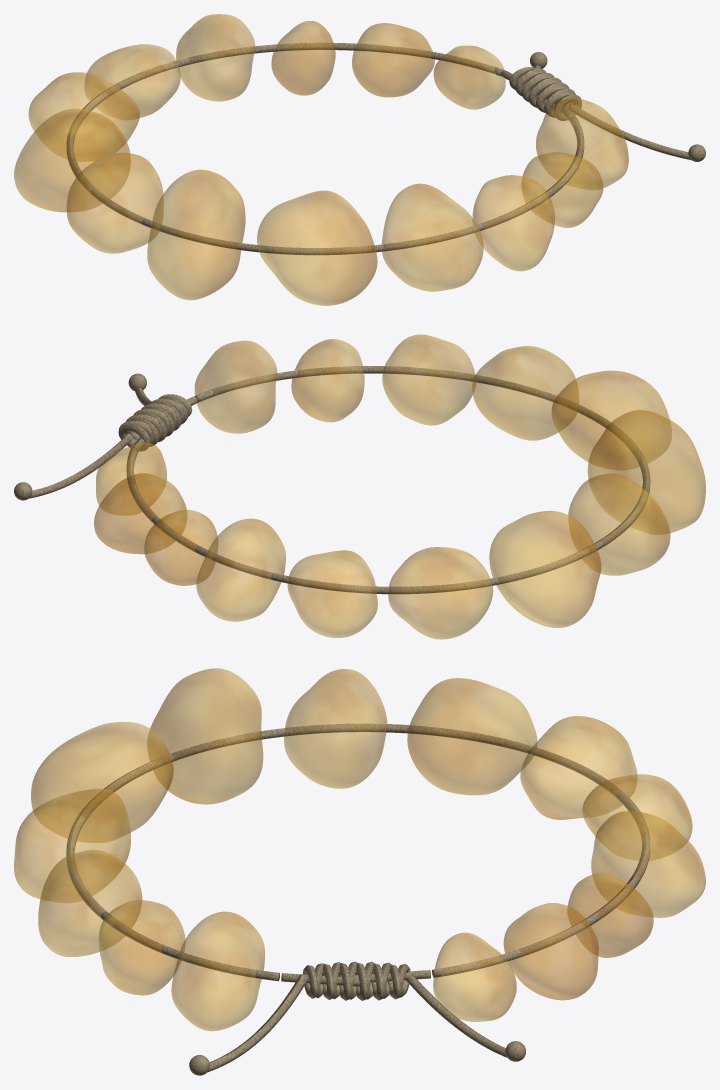
The model's file is miod.glb.
The picture shows the model from 3 angles, top to bottom: view 1: azimuth 30°, elevation 25°; view 2: azimuth 150°, elevation 25°; view 3: azimuth 270°, elevation 25°; orthographic projection. The views are drawn at different scales.
Parts seen in each view (by area): view 1: bead_nugget_4.001, bead_nugget_3.001, bead_nugget_1.001, nic.010, bead_nugget_0.002, bead_nugget_2.001, bead_nugget_0.001, bead_nugget_3.002, bead_nugget_1.002, bead_nugget_3, bead_nugget_4, bead_nugget_1 (+4 smaller); view 2: bead_nugget_3.001, bead_nugget_1.001, nic.010, bead_nugget_4.001, bead_nugget_2.001, bead_nugget_0.002, bead_nugget_0.001, bead_nugget_3, bead_nugget_1.002, bead_nugget_4, bead_nugget_3.002, bead_nugget_1 (+4 smaller); view 3: bead_nugget_4.001, bead_nugget_3.001, bead_nugget_1.001, nic.010, bead_nugget_0.002, bead_nugget_2.001, bead_nugget_3, bead_nugget_0.001, bead_nugget_3.002, bead_nugget_1.002, bead_nugget_1, bead_nugget_4 (+5 smaller).
Part boxes in pixels (<box>): bead_nugget_4.001: <box>257,190,377,305</box>; bead_nugget_3.001: <box>147,169,245,300</box>; bead_nugget_1.001: <box>14,108,130,212</box>; nic.010: <box>66,42,584,255</box>; bead_nugget_0.002: <box>381,183,483,291</box>; bead_nugget_2.001: <box>66,152,163,253</box>; bead_nugget_0.001: <box>28,72,139,161</box>; bead_nugget_3.002: <box>536,98,628,189</box>; bead_nugget_1.002: <box>472,175,554,271</box>; bead_nugget_3: <box>176,14,255,101</box>; bead_nugget_4: <box>84,44,180,120</box>; bead_nugget_1: <box>352,23,434,97</box>; bead_nugget_3.001: <box>587,410,705,534</box>; bead_nugget_1.001: <box>489,510,601,627</box>; nic.010: <box>126,366,650,594</box>; bead_nugget_4.001: <box>551,370,671,469</box>; bead_nugget_2.001: <box>568,473,670,575</box>; bead_nugget_0.002: <box>472,346,578,440</box>; bead_nugget_0.001: <box>388,547,493,639</box>; bead_nugget_3: <box>196,518,285,621</box>; bead_nugget_1.002: <box>382,334,475,425</box>; bead_nugget_4: <box>287,550,377,637</box>; bead_nugget_3.002: <box>194,340,277,433</box>; bead_nugget_1: <box>94,473,186,554</box>; bead_nugget_4.001: <box>31,722,173,842</box>; bead_nugget_3.001: <box>147,668,263,804</box>; bead_nugget_1.001: <box>407,678,537,795</box>; nic.010: <box>66,723,650,981</box>; bead_nugget_0.002: <box>14,788,130,902</box>; bead_nugget_2.001: <box>284,669,387,788</box>; bead_nugget_3: <box>591,811,705,917</box>; bead_nugget_0.001: <box>520,716,637,819</box>; bead_nugget_3.002: <box>171,911,264,1031</box>; bead_nugget_1.002: <box>38,849,142,956</box>; bead_nugget_1: <box>503,903,598,1000</box>; bead_nugget_4: <box>582,774,692,860</box>.
Size of the model in its own units: 7.46 by 1.41 by 6.61.
Materials: 4 (4 with a texture image).
